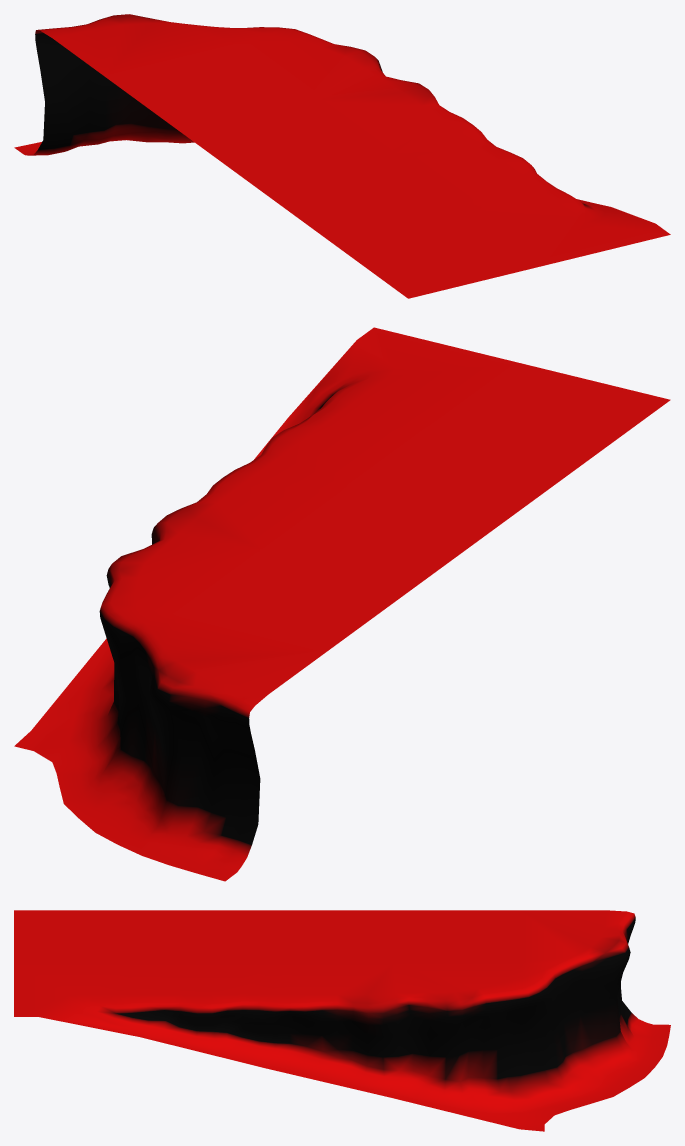
Rendered from ClimbCliff01D 1M Background.fbx.
3 renders of one model, top to bottom at view 1: azimuth 30°, elevation 25°; view 2: azimuth 150°, elevation 25°; view 3: azimuth 270°, elevation 25°, orthographic. The views are drawn at different scales.
Visible parts, largest first — view 1: ClimbCliff01D 1M Background; view 2: ClimbCliff01D 1M Background; view 3: ClimbCliff01D 1M Background.
Part boxes in pixels (bbox=[...]): ClimbCliff01D 1M Background: bbox=[14, 14, 670, 298]; ClimbCliff01D 1M Background: bbox=[14, 327, 670, 881]; ClimbCliff01D 1M Background: bbox=[14, 910, 670, 1131].
Bounding box in the file's own units: 2 × 1 × 5.2.
